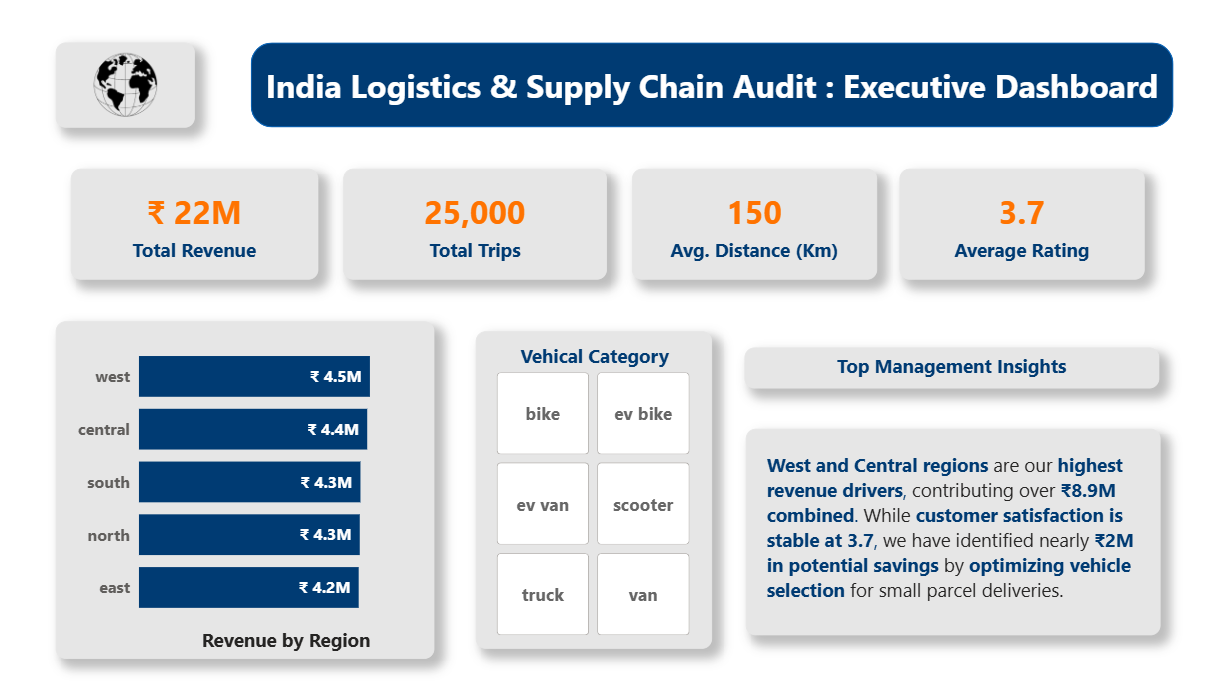

The dashboard page shown, as its layout file describes it:
{"tool":"powerbi","page":{"name":"Page 1","canvas":[1280,720],"ordinal":0},"visuals":[{"type":"card","fields":{"Values":["Sum(India_Logistics_Cleaned_Audit.delivery_cost)"]},"box":[108.2,182.9,246.3,110.7],"z":0},{"type":"card","fields":{"Values":["CountNonNull(India_Logistics_Cleaned_Audit.delivery_id)"]},"box":[379.4,182.9,262.5,110.7],"z":1000},{"type":"card","fields":{"Values":["Avg(India_Logistics_Cleaned_Audit.delivery_rating)"]},"box":[933,182.9,243.8,110.7],"z":2000},{"type":"clusteredBarChart","fields":{"Category":["India_Logistics_Cleaned_Audit.region"],"Y":["Sum(India_Logistics_Cleaned_Audit.delivery_cost)"]},"box":[93.3,334.6,376.9,335.9],"z":3000},{"type":"textbox","box":[780.2,441.2,412.5,205.6],"z":4000},{"type":"shape","box":[287,57.1,918.2,84.4],"z":5000},{"type":"textbox","box":[779,360.2,412.5,41.1],"z":6000},{"type":"image","box":[93.5,57.3,138.3,84.8],"z":7000},{"type":"card","fields":{"Values":["Avg(India_Logistics_Cleaned_Audit.distance_km)"]},"box":[666.8,182.9,243.8,110.7],"z":8000},{"type":"advancedSlicerVisual","title":"Vehical Category","fields":{"Values":["India_Logistics_Cleaned_Audit.vehicle_type"]},"box":[511.3,344.6,235.1,316],"z":9000}]}

Visuals, with their boxes in screenshot pixels (x1, y1, x2, y2), scaled from the page's 1280x720 canvas onto the 1217x692 screenshot:
card - Sum(India_Logistics_Cleaned_Audit.delivery_cost): <box>103,176,337,282</box>
card - CountNonNull(India_Logistics_Cleaned_Audit.delivery_id): <box>361,176,610,282</box>
card - Avg(India_Logistics_Cleaned_Audit.delivery_rating): <box>887,176,1119,282</box>
clusteredBarChart - India_Logistics_Cleaned_Audit.region x Sum(India_Logistics_Cleaned_Audit.delivery_cost): <box>89,322,447,644</box>
textbox: <box>742,424,1134,622</box>
shape: <box>273,55,1146,136</box>
textbox: <box>741,346,1133,386</box>
image: <box>89,55,220,137</box>
card - Avg(India_Logistics_Cleaned_Audit.distance_km): <box>634,176,866,282</box>
"Vehical Category" advancedSlicerVisual: <box>486,331,710,635</box>
